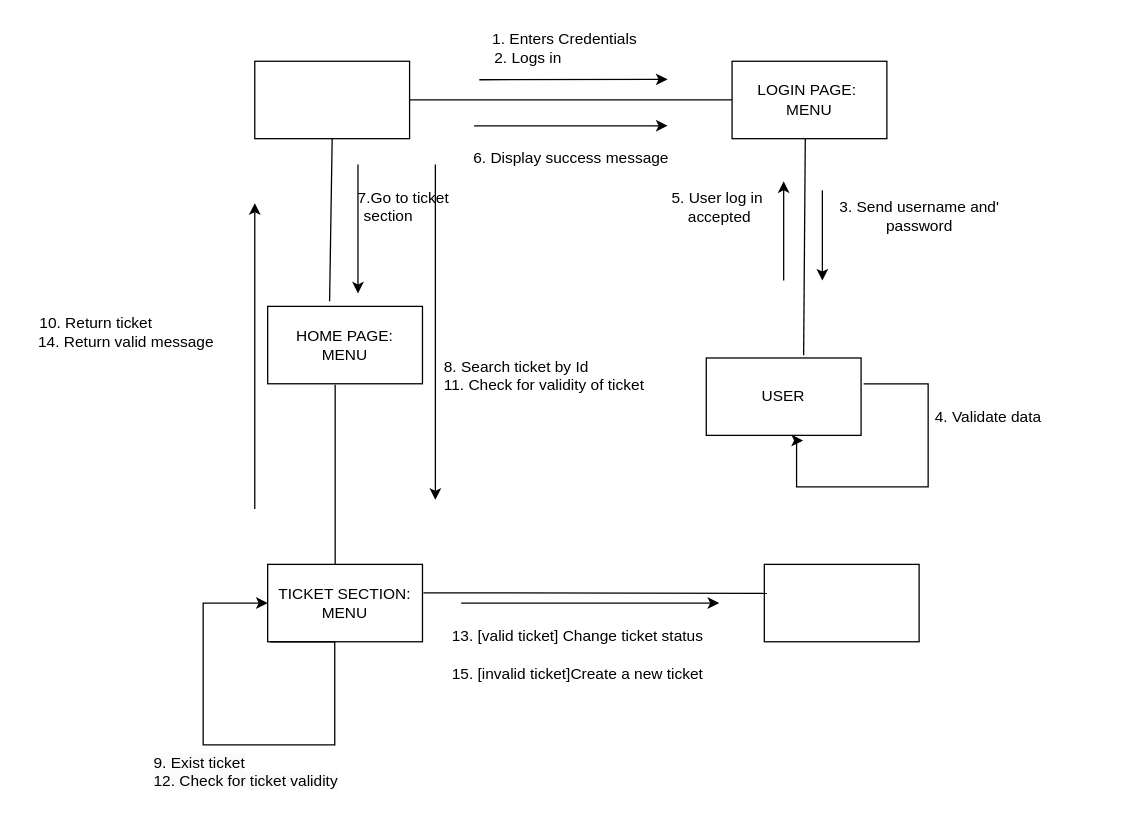
This 1147x818 diagram has some shape labels left out. The shapes that lost their labels are listed below. From the top down, each one's box as (x1, y1, x2, y2) in pixels, then its label:
(253, 60, 410, 139): STAFF MEMBER
(763, 563, 919, 642): TICKET
